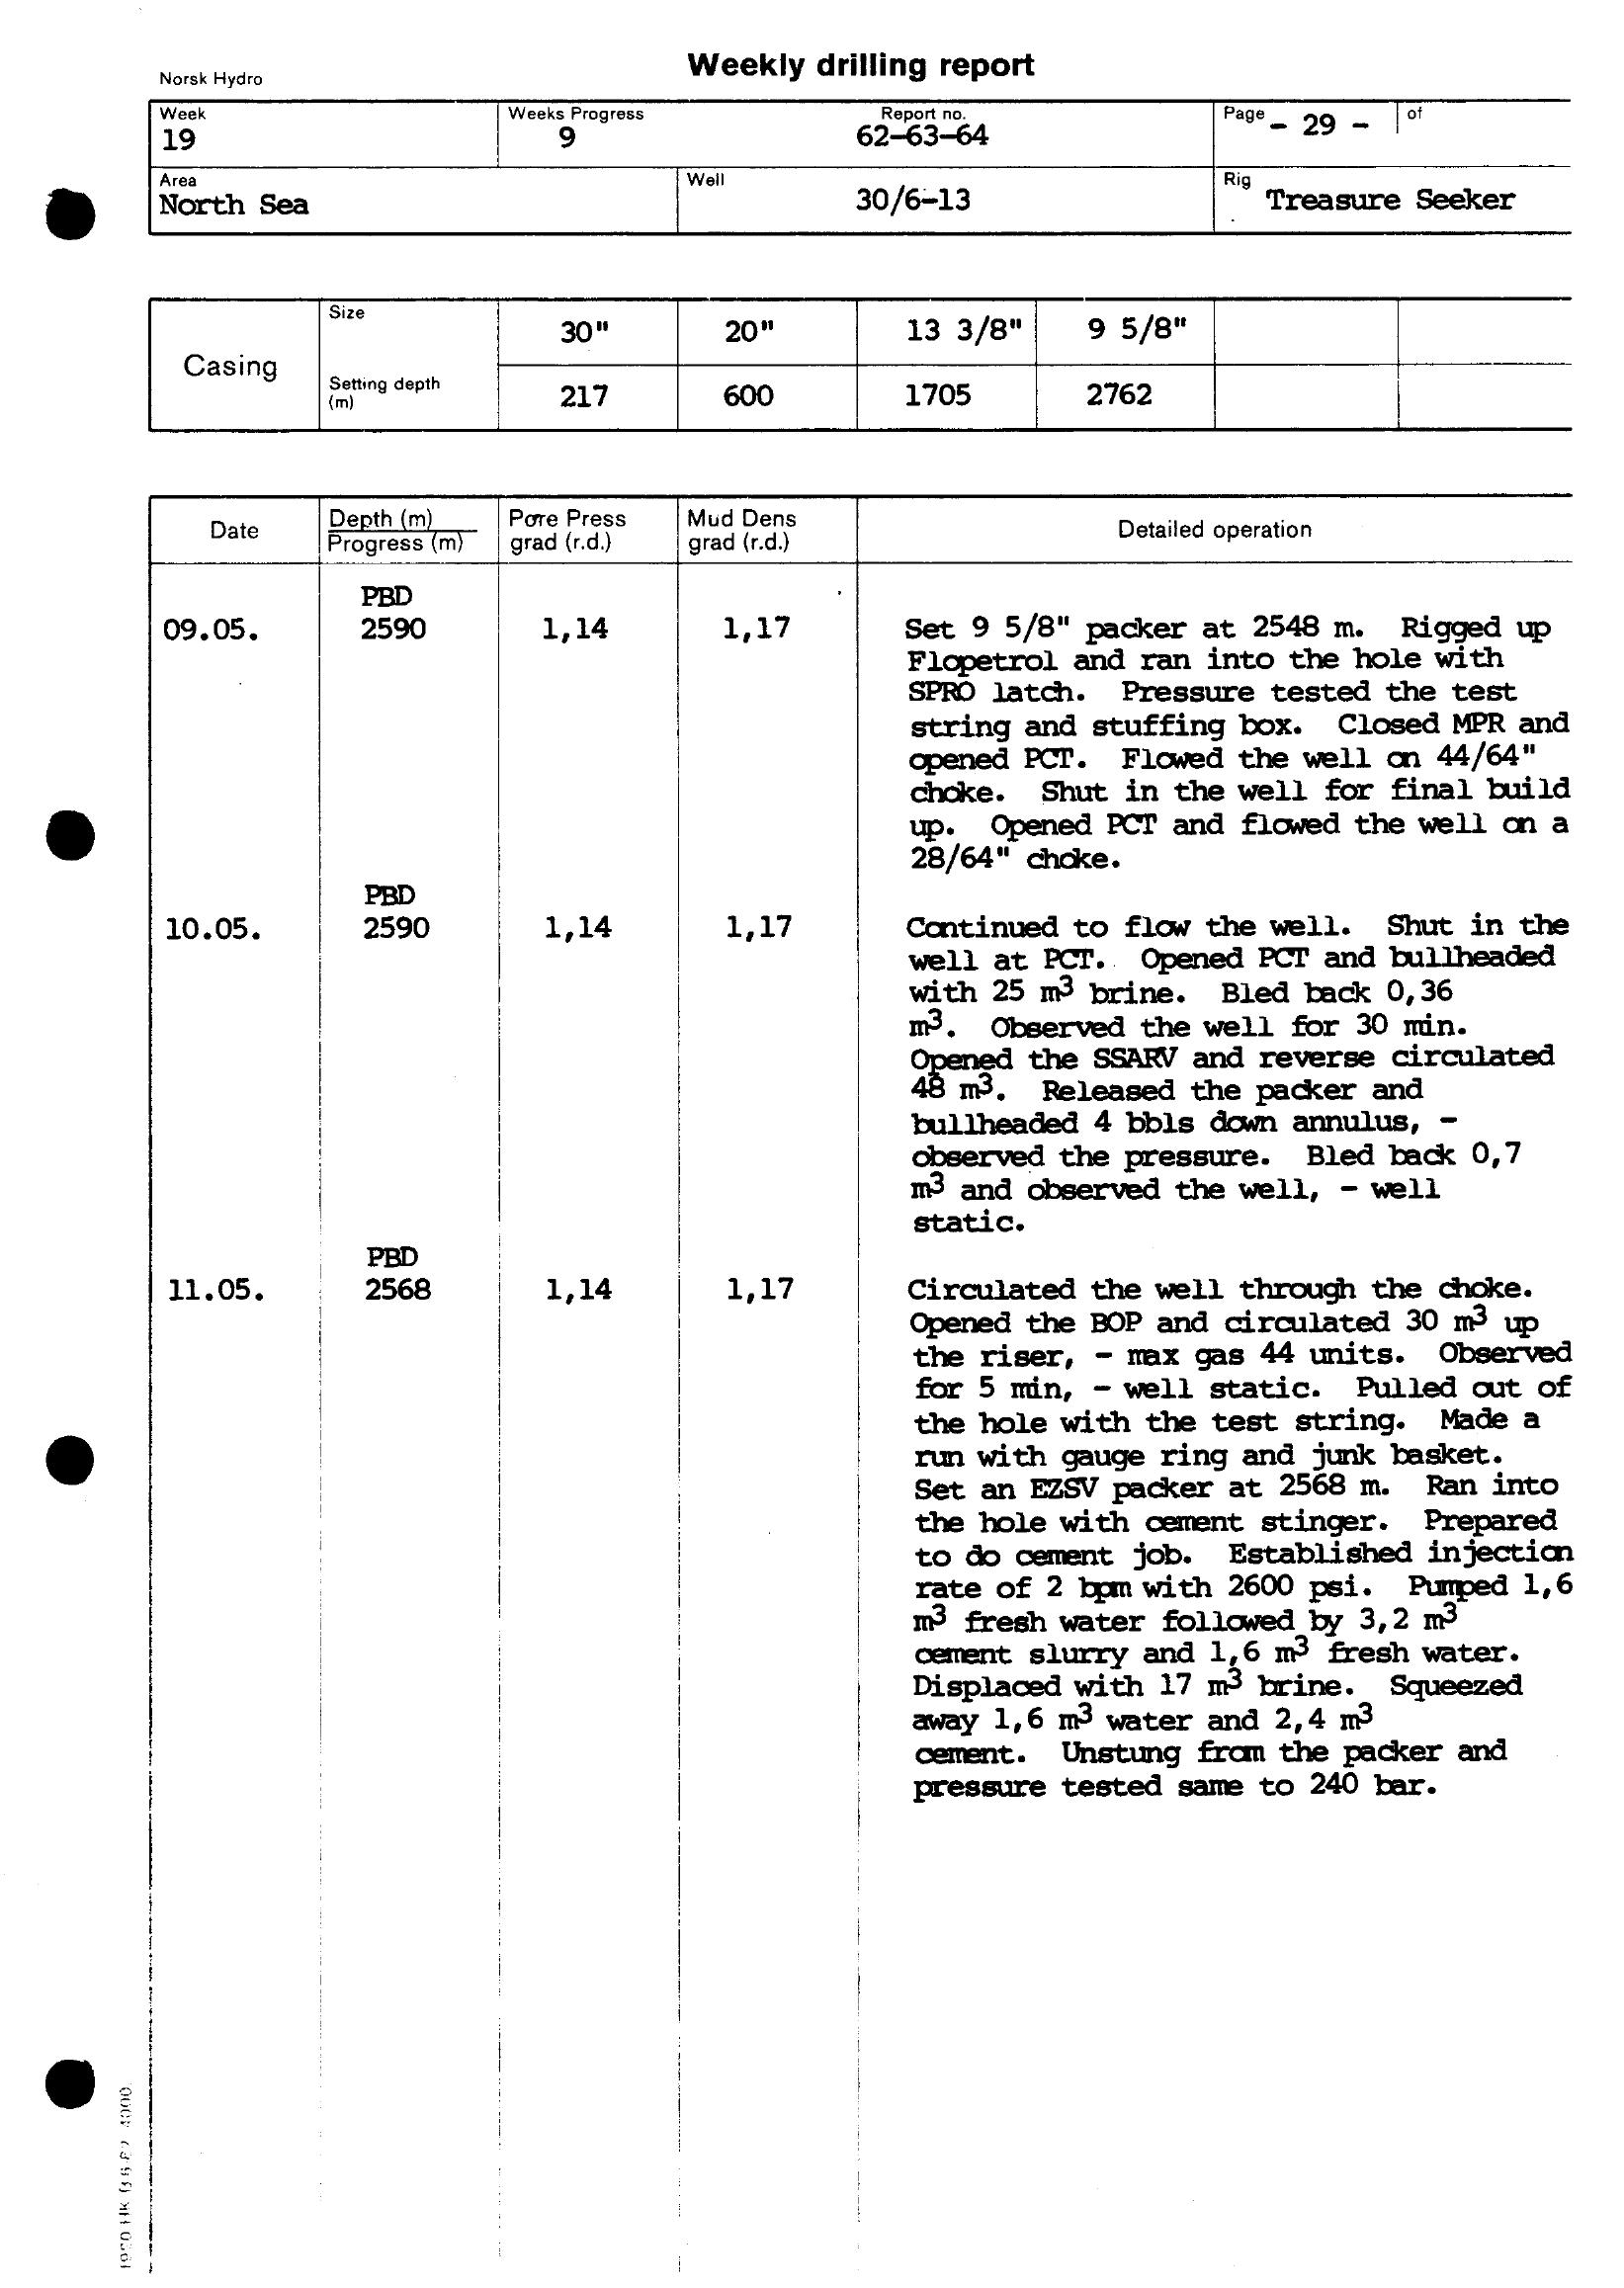graph: (123, 91, 1624, 1803)
text: (671, 39, 1048, 91)
